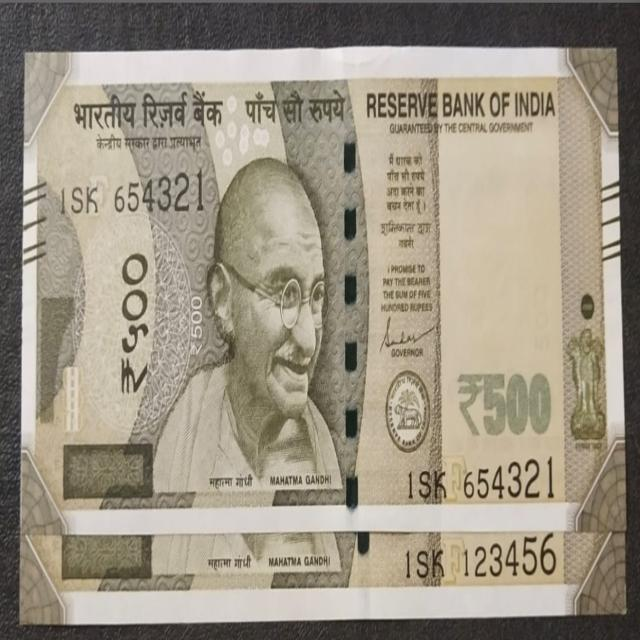500IndianRupees: (26, 51, 625, 529)
